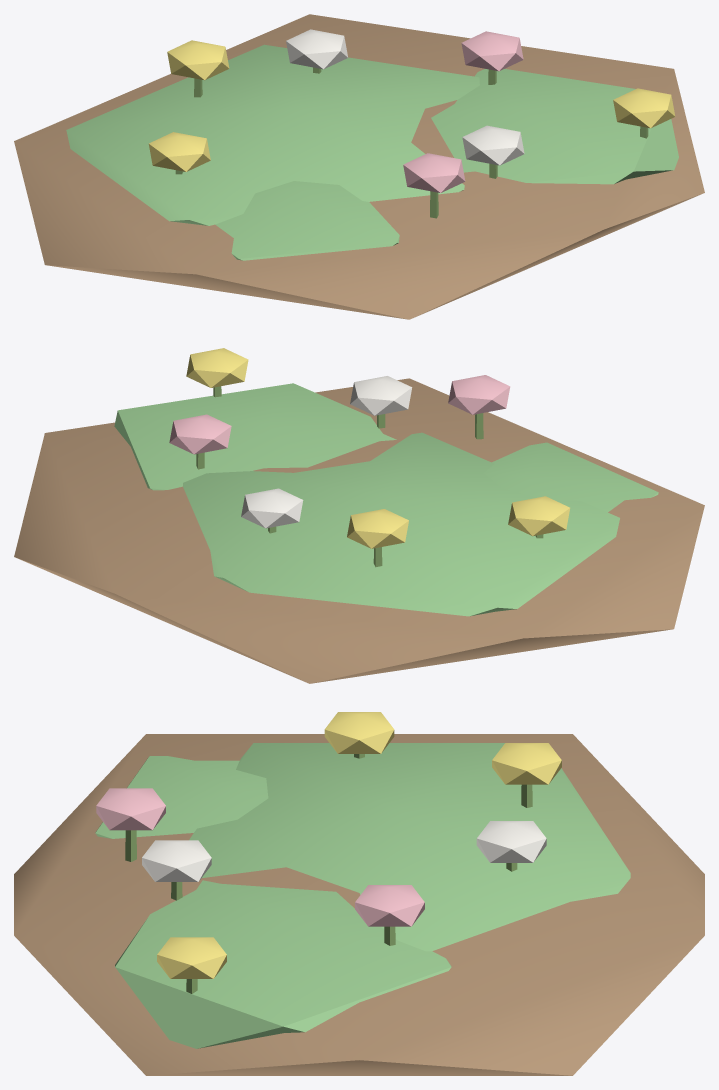
The model's file is hearthvale_ground_cover.glb.
3 renders of one model, top to bottom at view 1: azimuth 30°, elevation 25°; view 2: azimuth 150°, elevation 25°; view 3: azimuth 270°, elevation 25°, orthographic. The views are drawn at different scales.
Visible parts, largest first — view 1: hearthvale_ground_cover; view 2: hearthvale_ground_cover; view 3: hearthvale_ground_cover.
Boxes of the visible parts, bbox=[...] form: hearthvale_ground_cover: bbox=[14, 14, 704, 319]; hearthvale_ground_cover: bbox=[14, 348, 704, 683]; hearthvale_ground_cover: bbox=[14, 712, 704, 1075].
Size of the model in its own units: 1.12 by 0.2382 by 0.9078.
